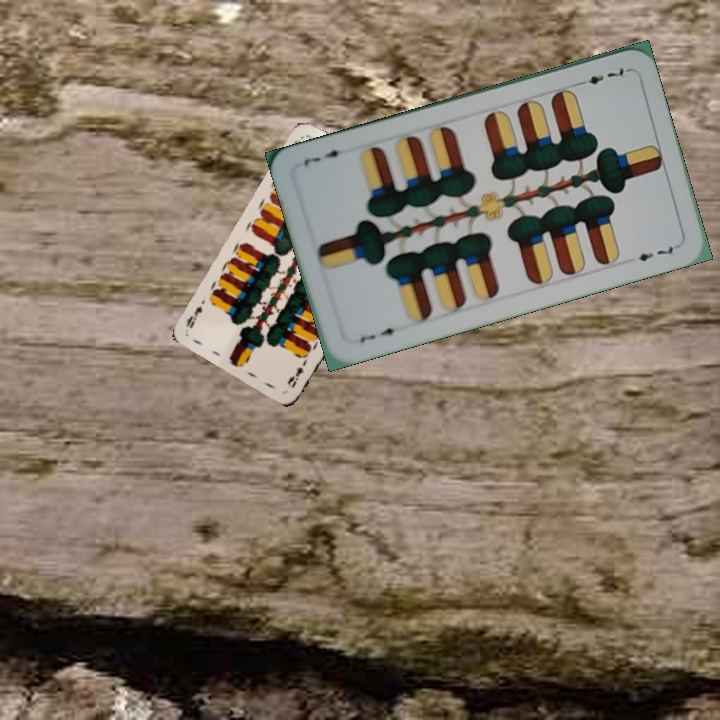E7: (572, 63, 631, 89), (356, 323, 404, 346)
E9: (284, 354, 310, 391)
